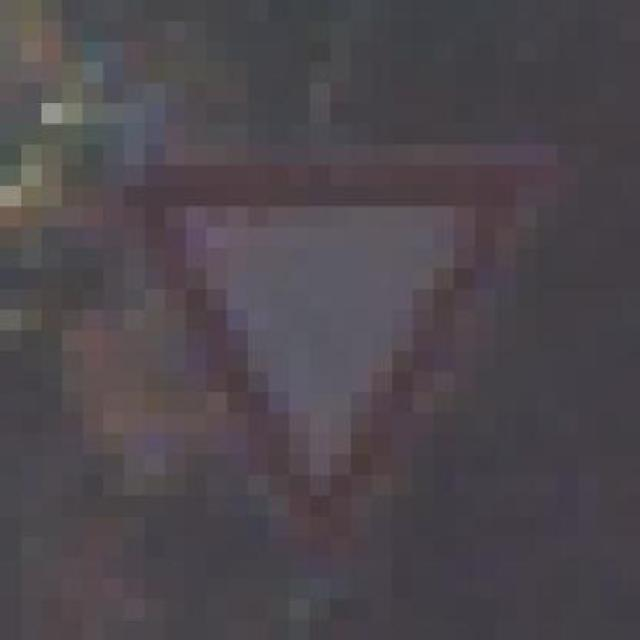Give Way: (61, 82, 598, 600)
